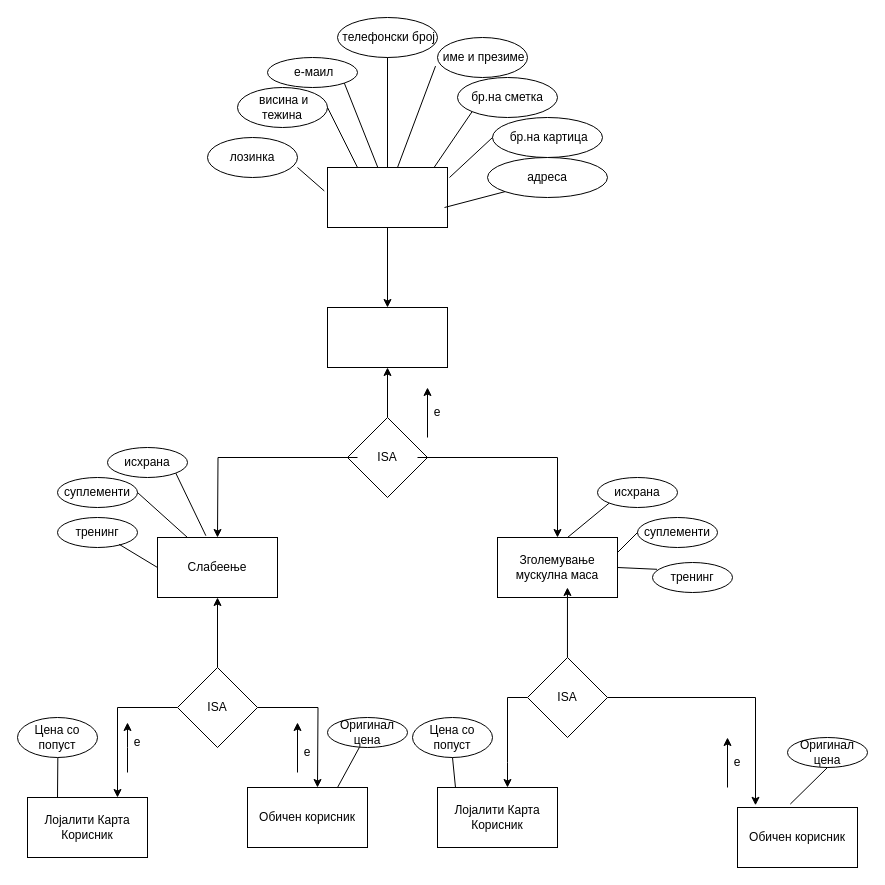
Image size: 885x885. Some labels were removed from this diagram. Here are the shapes that lost their labels. From the top down, the centre of each, then its label:
At [387,197]: "Корисник".
At [387,337]: "Програм план".
